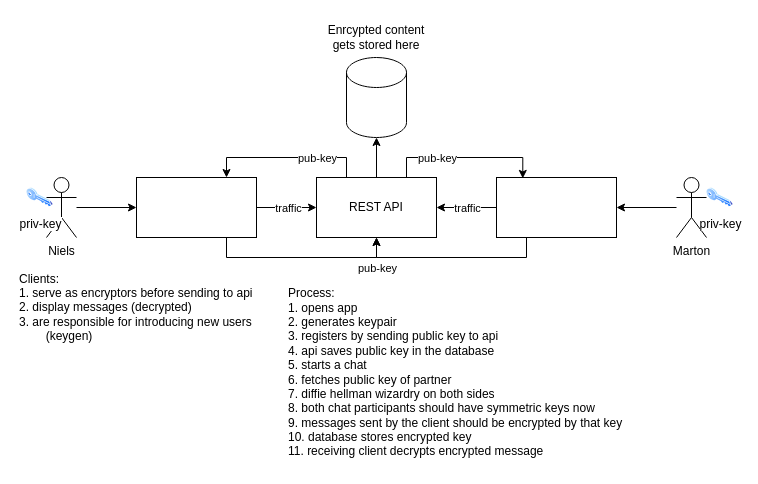
The diagram is 758 pixels wide and 484 high, and some of its shapes have lost their labels. Each missing label, with the box of its shape:
client A: (136, 176, 256, 238)
client B: (496, 176, 616, 238)
DB: (346, 56, 406, 138)
